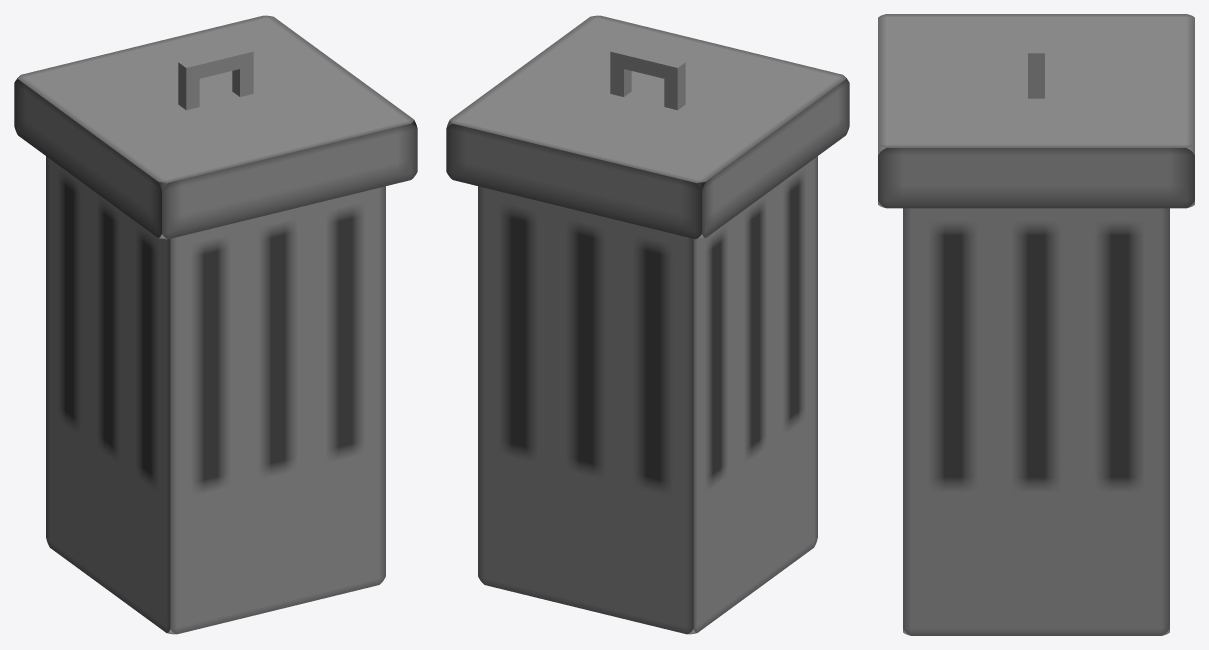
File: Lixeira.fbx
3 views of the same model, side by side, from view 1: azimuth 30°, elevation 25°; view 2: azimuth 150°, elevation 25°; view 3: azimuth 270°, elevation 25° (orthographic). The views are drawn at different scales.
Parts seen in each view (by area): view 1: cuboid; view 2: cuboid; view 3: cuboid.
Part boxes in pixels (x1,y1,x2,y2): cuboid: (14, 15, 417, 634); cuboid: (446, 15, 849, 634); cuboid: (878, 14, 1194, 635).
Bounding box in the file's own units: 59.38 × 112 × 59.38.
2 materials, 2 textured.
